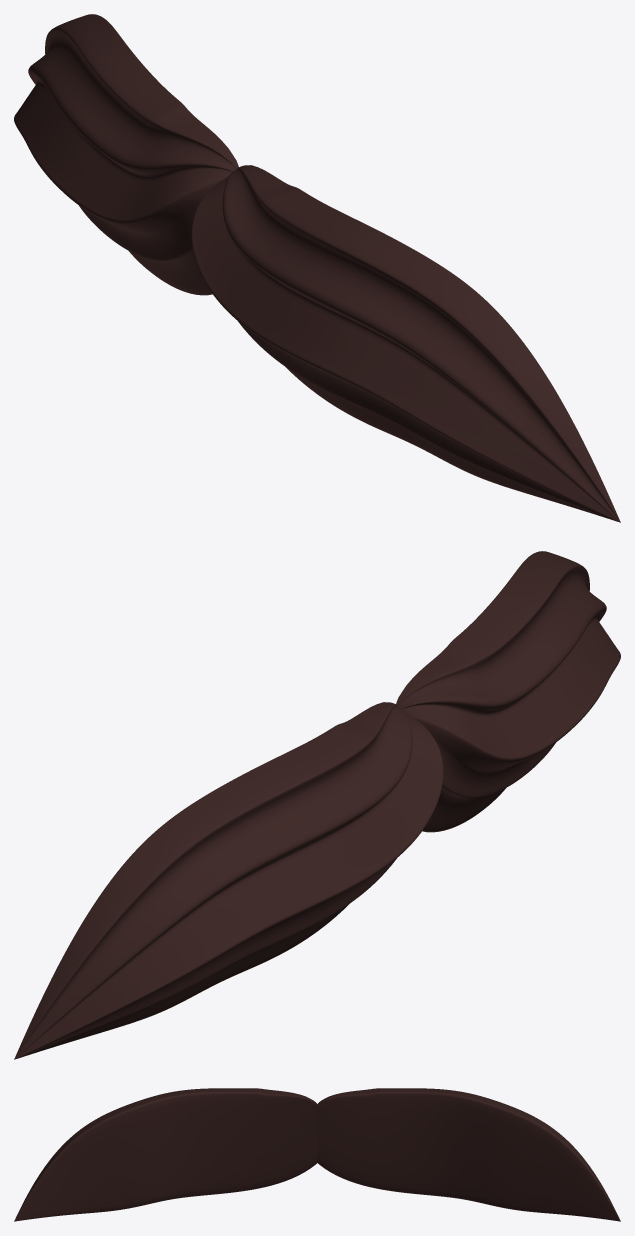
The model's file is mustache.fbx.
3 views of the same model, one above another, from view 1: azimuth 30°, elevation 25°; view 2: azimuth 150°, elevation 25°; view 3: azimuth 270°, elevation 25° (orthographic). The views are drawn at different scales.
Parts seen in each view (by area): view 1: Mustache; view 2: Mustache; view 3: Mustache.
Boxes of the visible parts, x1,y1,x2,y2 form: Mustache: (14, 14, 620, 522); Mustache: (14, 551, 620, 1059); Mustache: (14, 1088, 620, 1221).
Size of the model in its own units: 221 by 244 by 1230.
